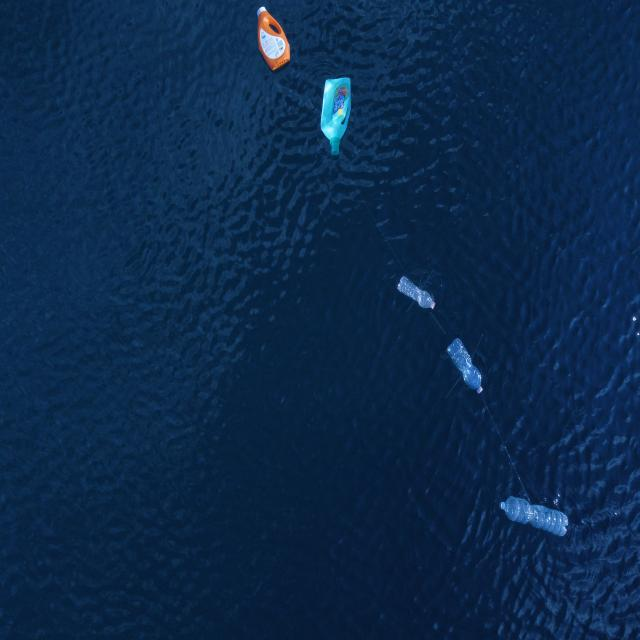bottles: (495, 493, 576, 537), (251, 3, 297, 74), (317, 75, 354, 159), (440, 334, 488, 398), (396, 269, 441, 312)
